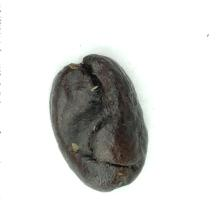NG: (60, 68, 141, 176)
